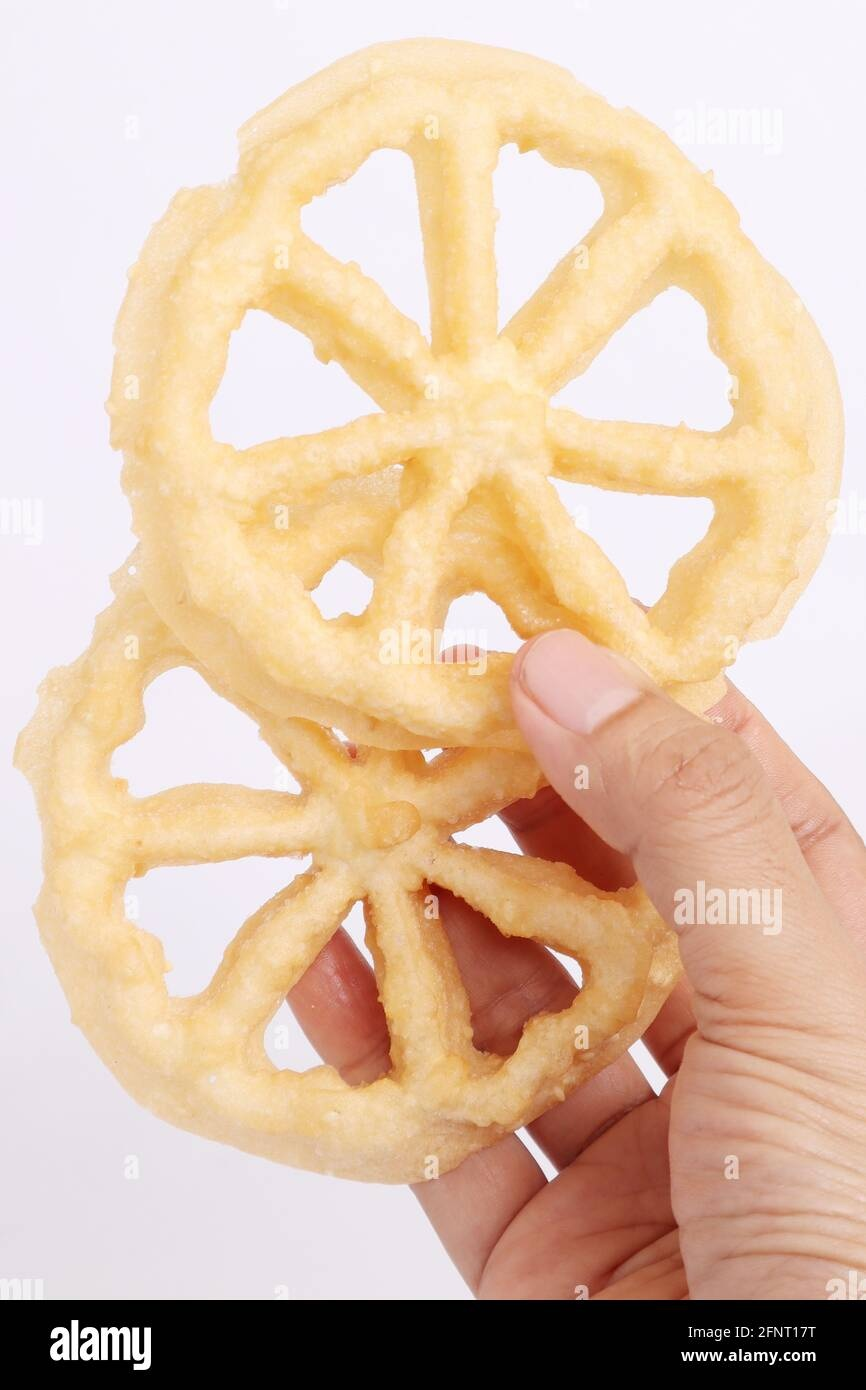kembang_goyang: (133, 78, 829, 735)
